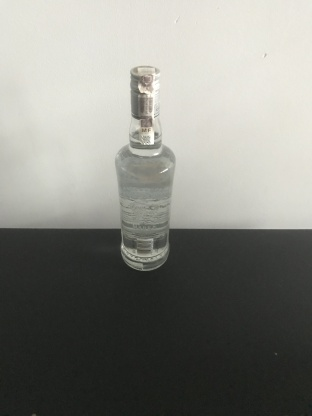nakretka: (128, 63, 163, 119)
